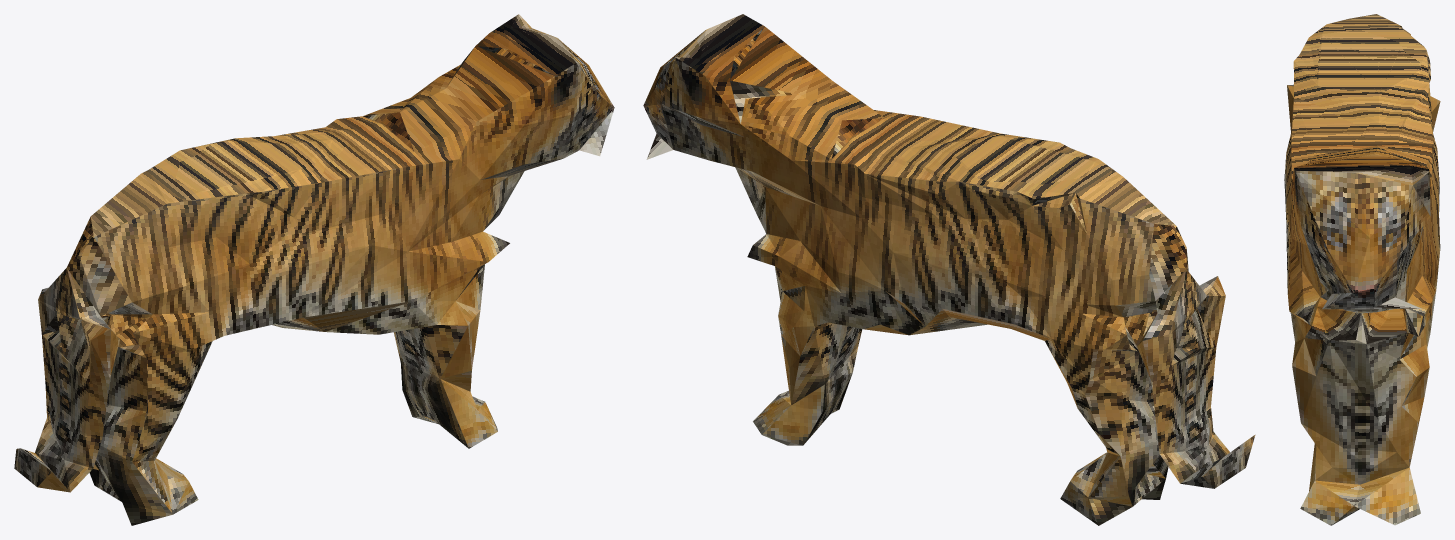
Rendered from animal.salvaje.tigre.glb.
3 views of the same model, side by side, from view 1: azimuth 30°, elevation 25°; view 2: azimuth 150°, elevation 25°; view 3: azimuth 270°, elevation 25° (orthographic). The views are drawn at different scales.
Parts seen in each view (by area): view 1: animal.salvaje.tigre; view 2: animal.salvaje.tigre; view 3: animal.salvaje.tigre.
Part boxes in pixels (x1=…): animal.salvaje.tigre: x1=14, y1=14, x2=614, y2=525; animal.salvaje.tigre: x1=643, y1=14, x2=1255, y2=525; animal.salvaje.tigre: x1=1284, y1=14, x2=1440, y2=525.
Bounding box in the file's own units: 2.6 × 1.57 × 0.5593.
Materials: 1 (1 with a texture image).
